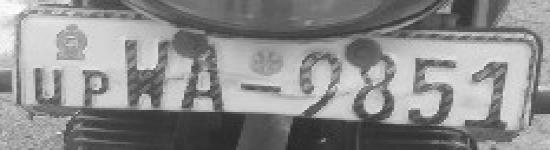-: (236, 78, 288, 98)
1: (461, 57, 513, 132)
5: (404, 53, 462, 127)
8: (350, 50, 400, 124)
9: (294, 45, 341, 119)
A: (175, 40, 231, 114)
P: (77, 64, 115, 111)
U: (28, 65, 68, 108)
W: (121, 33, 172, 110)
